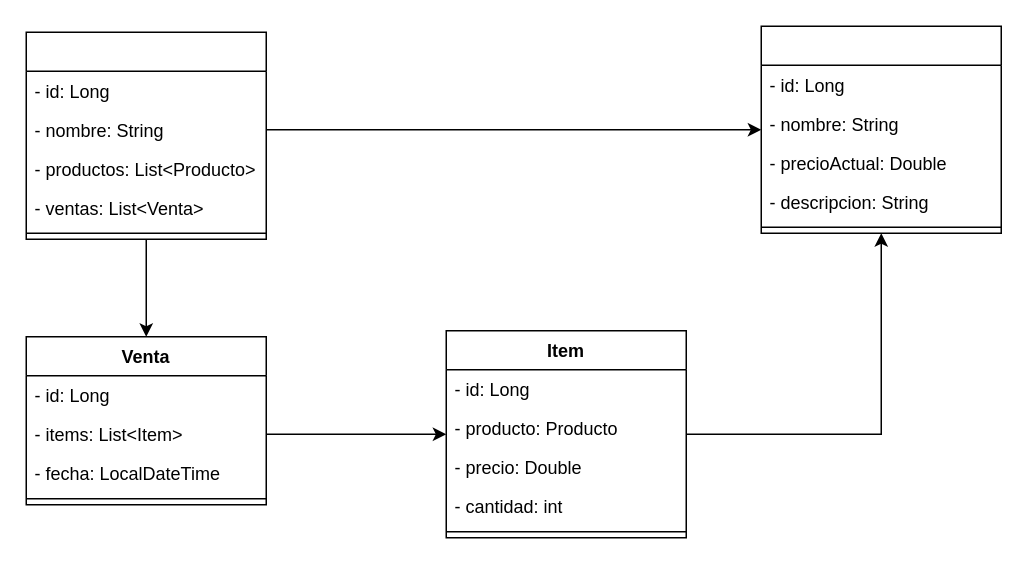
This 1028x564 diagram has some shape labels left out. Here are the shapes that lost their labels. From the top down, the box of each, then its label:
(25, 31, 266, 239): Sucursal
(760, 25, 1001, 233): Producto
